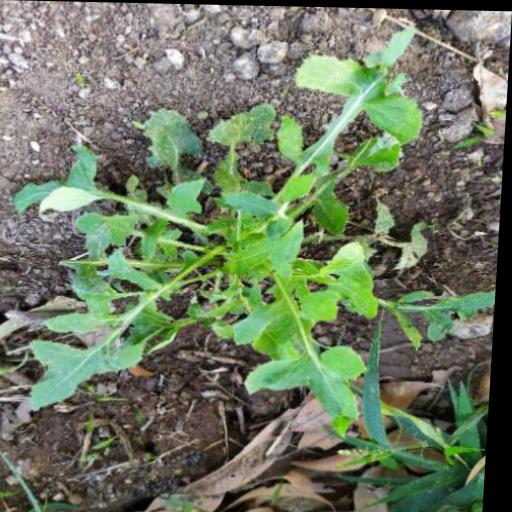weed: (2, 14, 473, 472)
